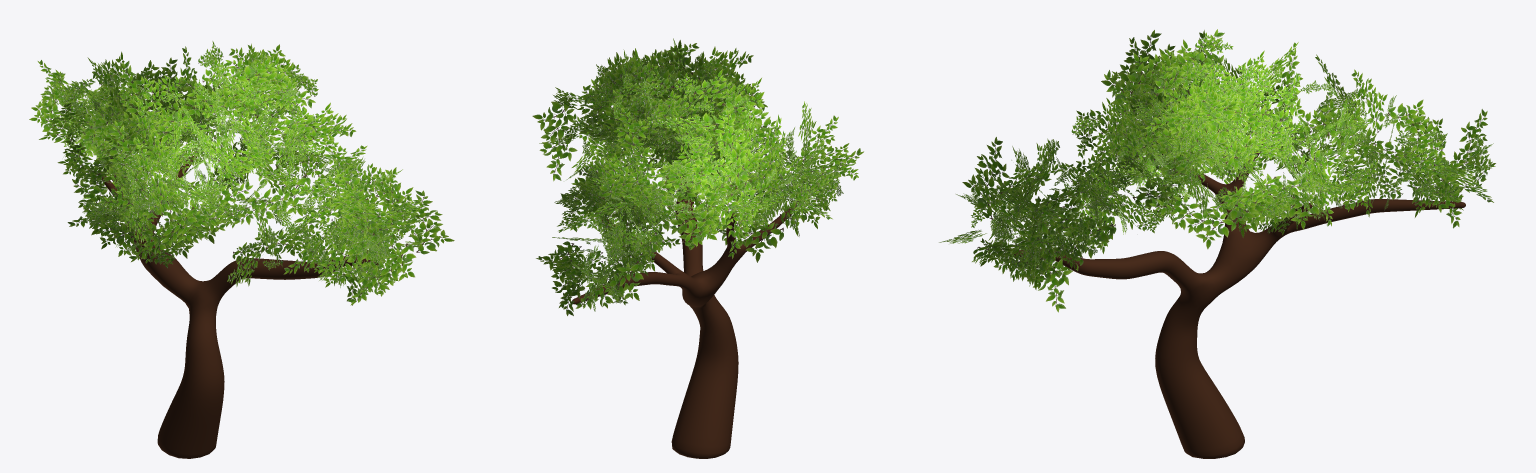
File: mediumtree.fbx
3 views of the same model, side by side, from view 1: azimuth 30°, elevation 25°; view 2: azimuth 150°, elevation 25°; view 3: azimuth 270°, elevation 25° (orthographic). The views are drawn at different scales.
Visible parts, largest first — view 1: 63-636871_green-branch-transparent-png-clip-art-image-green., Plane; view 2: 63-636871_green-branch-transparent-png-clip-art-image-green., Plane; view 3: 63-636871_green-branch-transparent-png-clip-art-image-green., Plane.
Boxes of the visible parts, left/top/right/bottom form: 63-636871_green-branch-transparent-png-clip-art-image-green.: left=29, top=41, right=454, bottom=305; Plane: left=82, top=128, right=377, bottom=458; 63-636871_green-branch-transparent-png-clip-art-image-green.: left=532, top=38, right=863, bottom=315; Plane: left=572, top=182, right=809, bottom=458; 63-636871_green-branch-transparent-png-clip-art-image-green.: left=939, top=29, right=1495, bottom=312; Plane: left=1014, top=128, right=1465, bottom=458.
Bounding box in the file's own units: 425 × 492 × 614.
